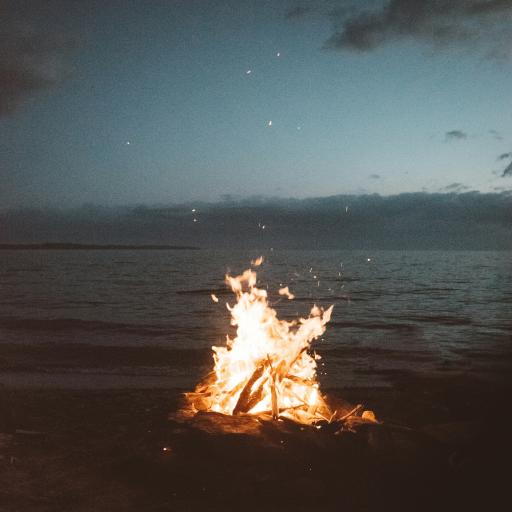campfire: (169, 246, 417, 472)
